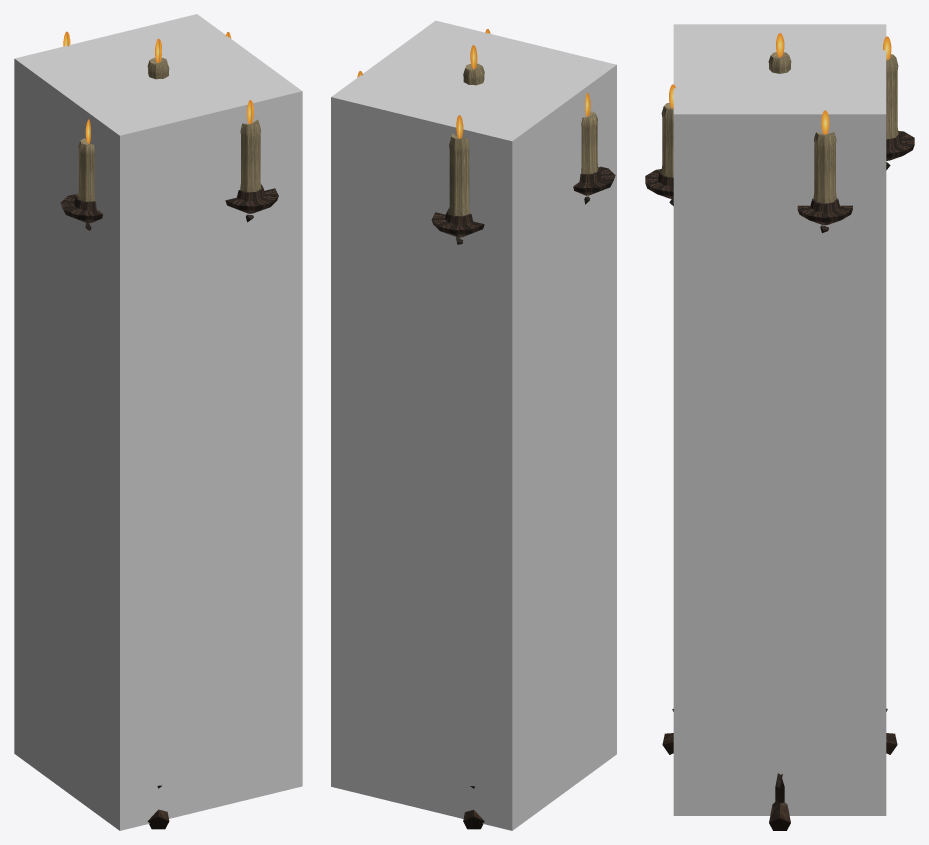
Rendered from candelabra_tall_v1.glb.
3 renders of one model, left to right at view 1: azimuth 30°, elevation 25°; view 2: azimuth 150°, elevation 25°; view 3: azimuth 270°, elevation 25°, orthographic.
Visible parts, largest first — view 1: col_candelabra, candelabra; view 2: col_candelabra, candelabra; view 3: col_candelabra, candelabra.
Boxes of the visible parts, <box> form: col_candelabra: <box>14,14,302,830</box>; candelabra: <box>60,31,278,829</box>; col_candelabra: <box>331,20,616,830</box>; candelabra: <box>357,29,615,829</box>; col_candelabra: <box>673,24,886,815</box>; candelabra: <box>645,33,914,830</box>.
Size of the model in its own units: 0.7026 by 2.16 by 0.6953.
Materials: 3 (3 with a texture image).
